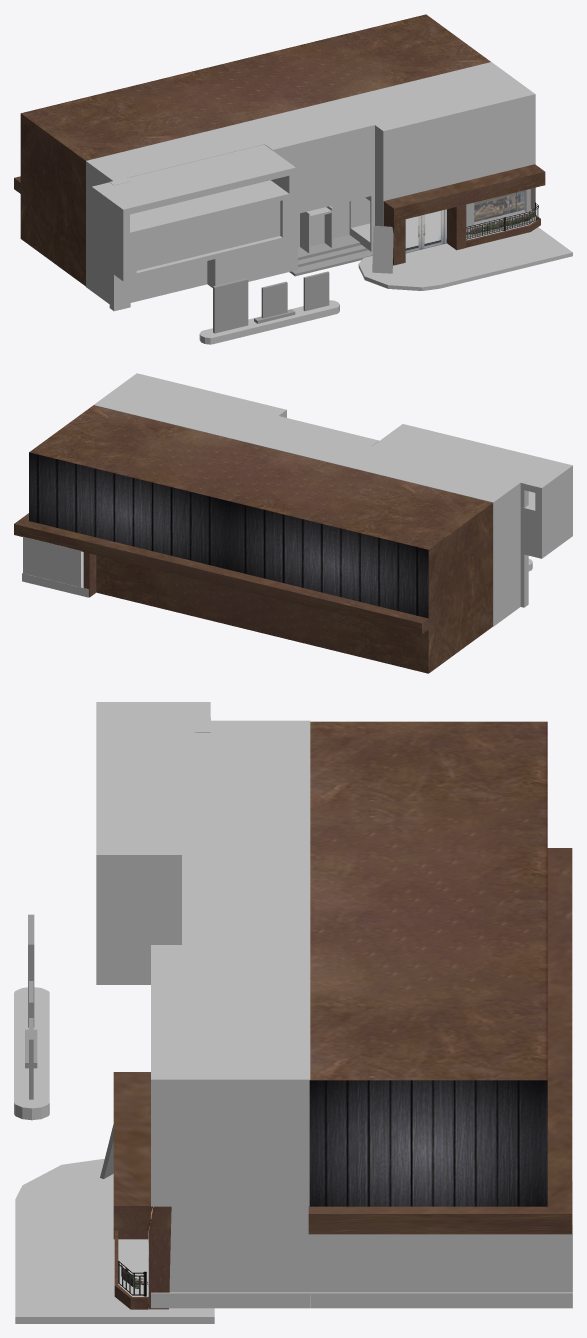
The model's file is Gloria_Jeans_New.fbx.
3 renders of one model, top to bottom at view 1: azimuth 30°, elevation 25°; view 2: azimuth 150°, elevation 25°; view 3: azimuth 270°, elevation 25°, orthographic. The views are drawn at different scales.
Visible parts, largest first — view 1: polySurface687, polySurface679, polySurface675, pCylinder2, pCube11, polySurface4, pCylinder1, polySurface1, polySurface3, polySurface2; view 2: polySurface679, polySurface687, polySurface684; view 3: polySurface679, polySurface687, pCylinder2, polySurface684, polySurface682, polySurface675, pCylinder1, polySurface688, polySurface689, polySurface686, polySurface690.
Boxes of the visible parts, <box> form: polySurface687: <box>86,62,535,311</box>; polySurface679: <box>14,14,490,286</box>; polySurface675: <box>383,164,545,265</box>; pCylinder2: <box>358,223,572,290</box>; pCube11: <box>289,235,372,276</box>; polySurface4: <box>213,278,248,333</box>; pCylinder1: <box>199,300,339,344</box>; polySurface1: <box>254,281,295,323</box>; polySurface3: <box>372,226,393,273</box>; polySurface2: <box>303,271,329,311</box>; polySurface679: <box>14,405,492,673</box>; polySurface687: <box>22,373,572,626</box>; polySurface684: <box>23,536,80,587</box>; polySurface679: <box>308,721,572,1234</box>; polySurface687: <box>96,702,572,1308</box>; pCylinder2: <box>15,1158,214,1323</box>; polySurface684: <box>307,1181,572,1292</box>; polySurface682: <box>169,1206,310,1293</box>; polySurface675: <box>113,1072,171,1309</box>; pCylinder1: <box>14,987,49,1120</box>; polySurface688: <box>310,1293,410,1308</box>; polySurface689: <box>410,1293,510,1308</box>; polySurface686: <box>210,1293,310,1308</box>; polySurface690: <box>510,1293,572,1308</box>.
Bounding box in the file's own units: 273 × 80.77 × 168.
